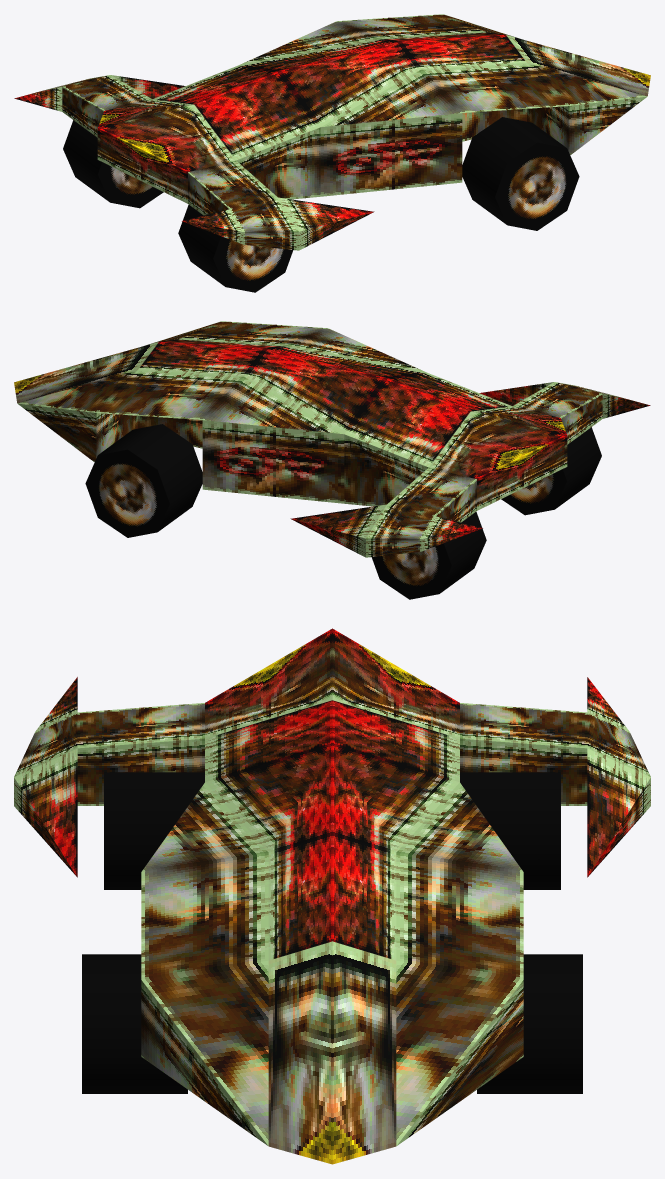
Rendered from Arc.glb.
3 renders of one model, top to bottom at view 1: azimuth 30°, elevation 25°; view 2: azimuth 150°, elevation 25°; view 3: azimuth 270°, elevation 25°, orthographic. The views are drawn at different scales.
Visible parts, largest first — view 1: ChassisSR0, WheelFR, WheelRR, WheelRL; view 2: ChassisSR0, WheelFL, WheelRL, WheelRR; view 3: ChassisSR0, WheelFR, WheelFL, WheelRR, WheelRL.
Boxes of the visible parts, x1,y1,x2,y2 form: ChassisSR0: [14, 14, 650, 250]; WheelFR: [462, 117, 579, 230]; WheelRR: [178, 205, 293, 292]; WheelRL: [63, 120, 163, 208]; ChassisSR0: [14, 321, 650, 557]; WheelFL: [85, 424, 202, 537]; WheelRL: [371, 512, 486, 599]; WheelRR: [501, 427, 601, 515]; ChassisSR0: [14, 628, 650, 1164]; WheelFR: [82, 954, 187, 1093]; WheelFL: [477, 954, 582, 1093]; WheelRR: [104, 772, 204, 889]; WheelRL: [460, 772, 560, 889].
Size of the model in its own units: 6.41 by 1.58 by 4.2.
2 materials, 1 textured.
